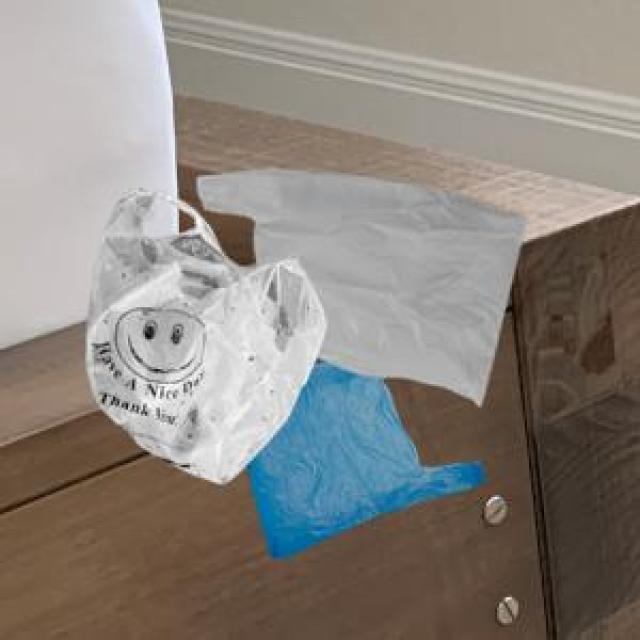Bolsa-de-plastico: (196, 168, 527, 408), (85, 193, 328, 487), (246, 361, 487, 561)
